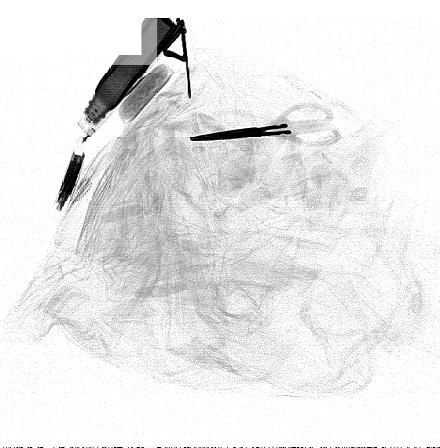Scissors: (186, 96, 347, 152)
